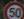Speed Limit -50-: (0, 0, 23, 18)
